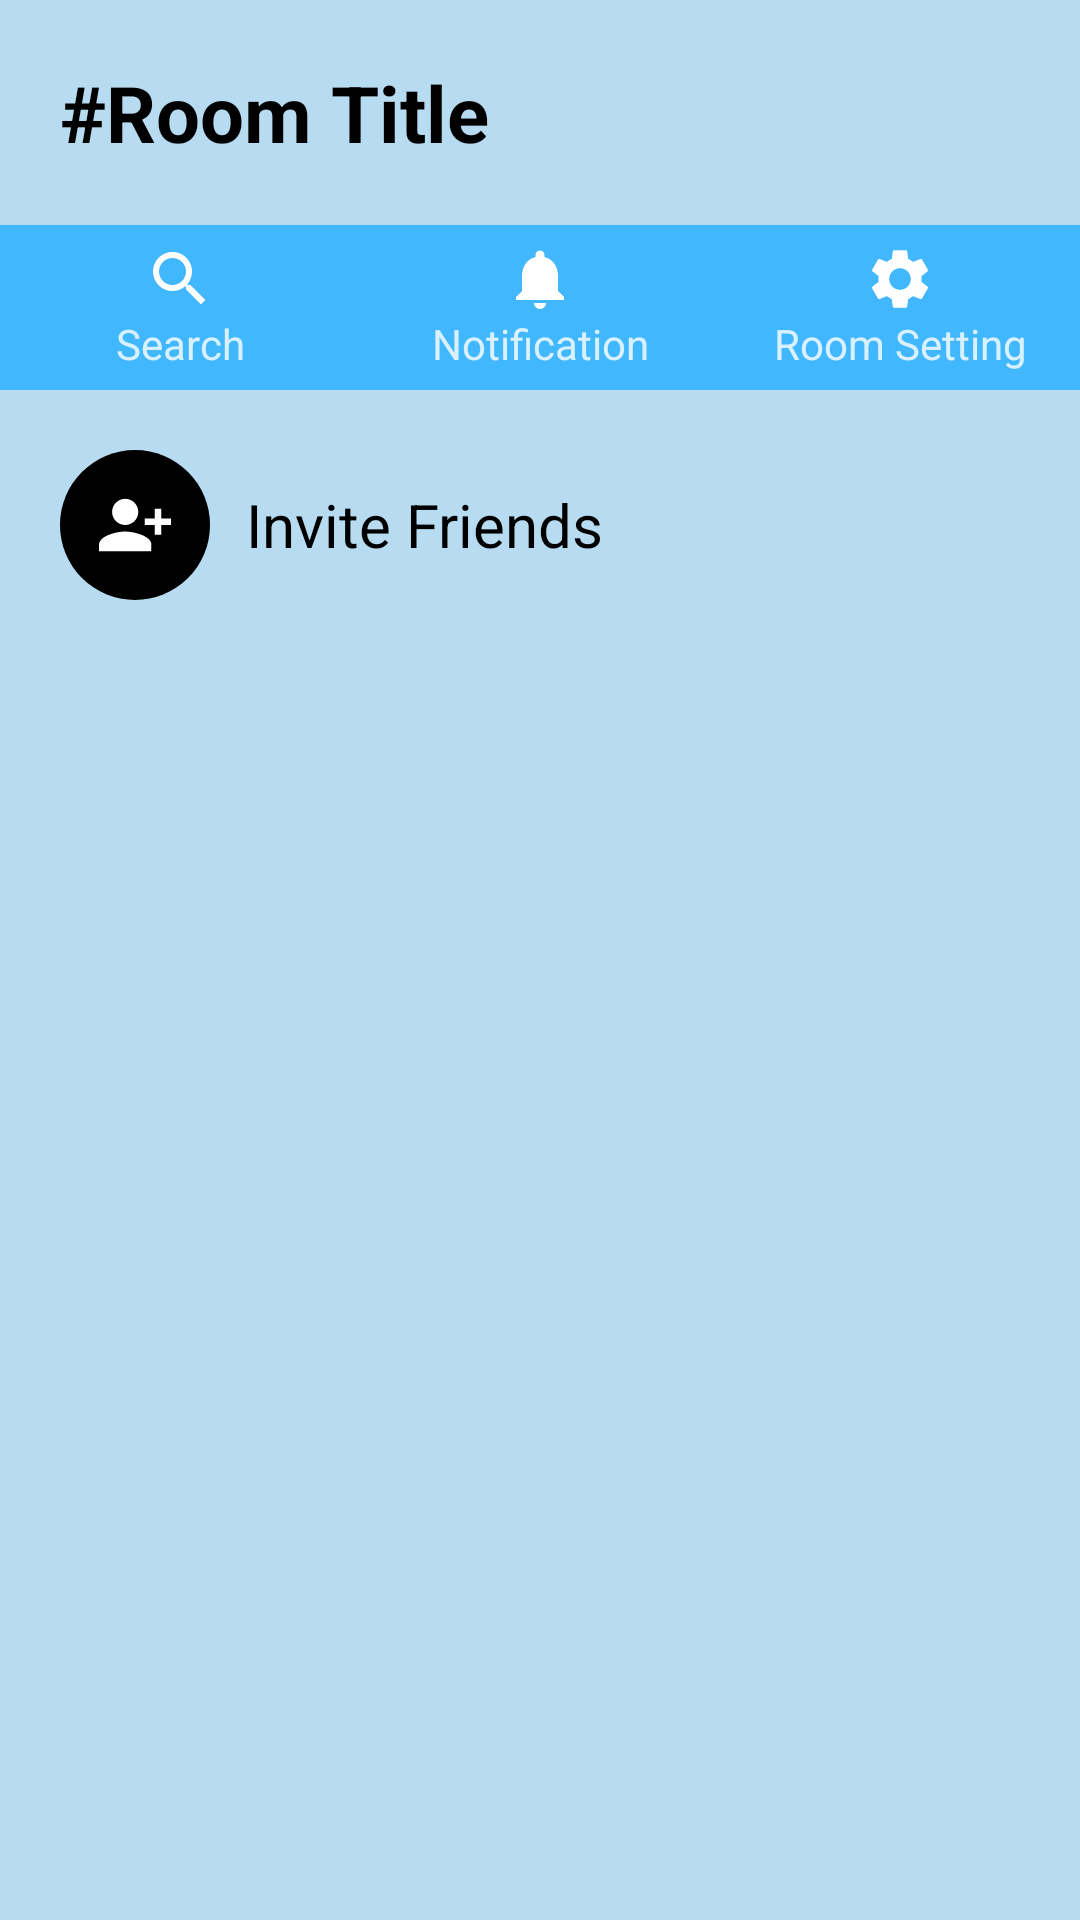

Point at icon controls on the screen. Image size 1080px x 1920px, points as [x,y].
find friend: [135,525]
